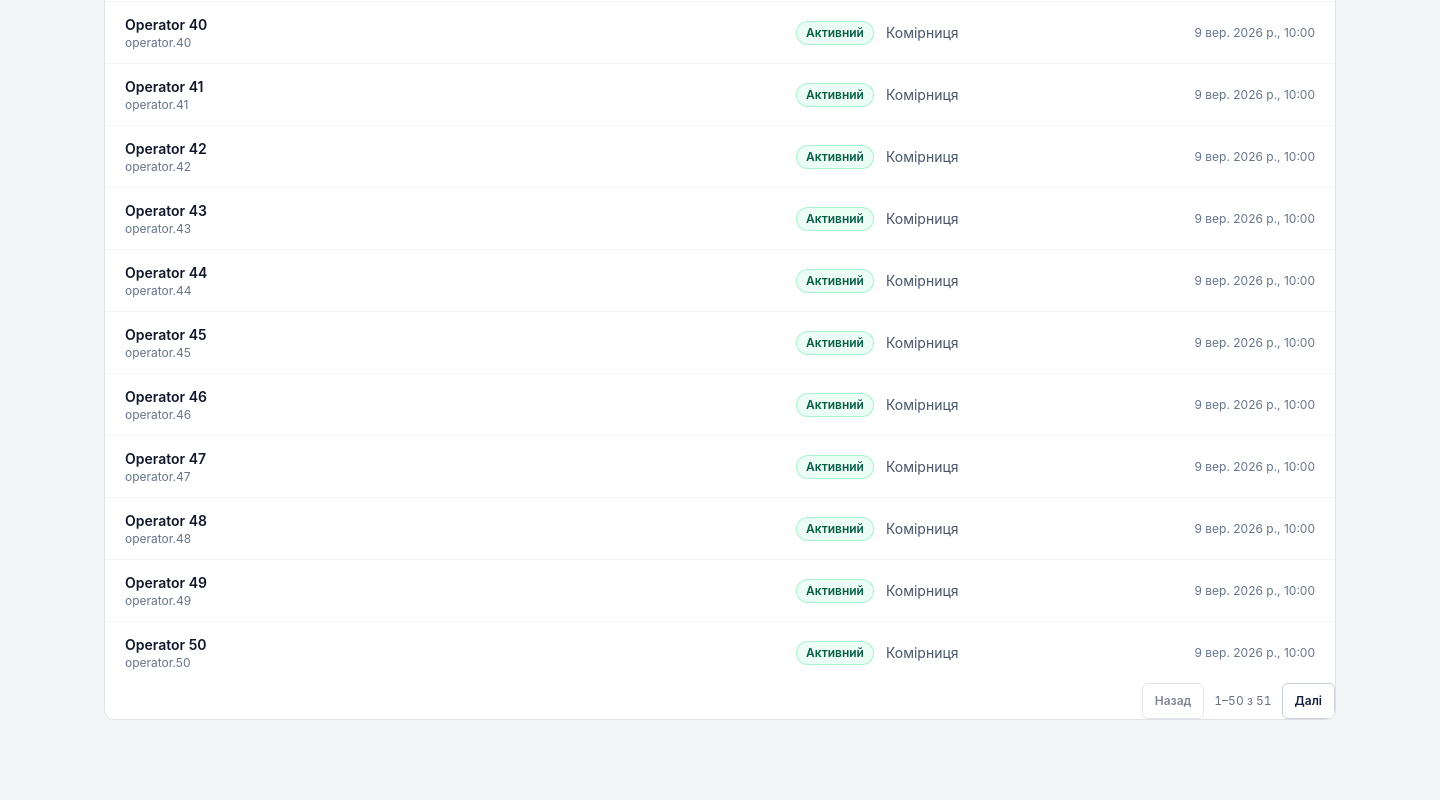
Test: application-user administration UI › bounds the user table to 50 rows while keeping truthful totals
(page scrolled)
Expected: the text "Operator 51" is not shown
Expected: the text "1–50 з 51" is shown, [1214,692,1272,710]
Click the button "Далі" at (1308, 701), box [1282,683,1335,719]
(page scrolled)
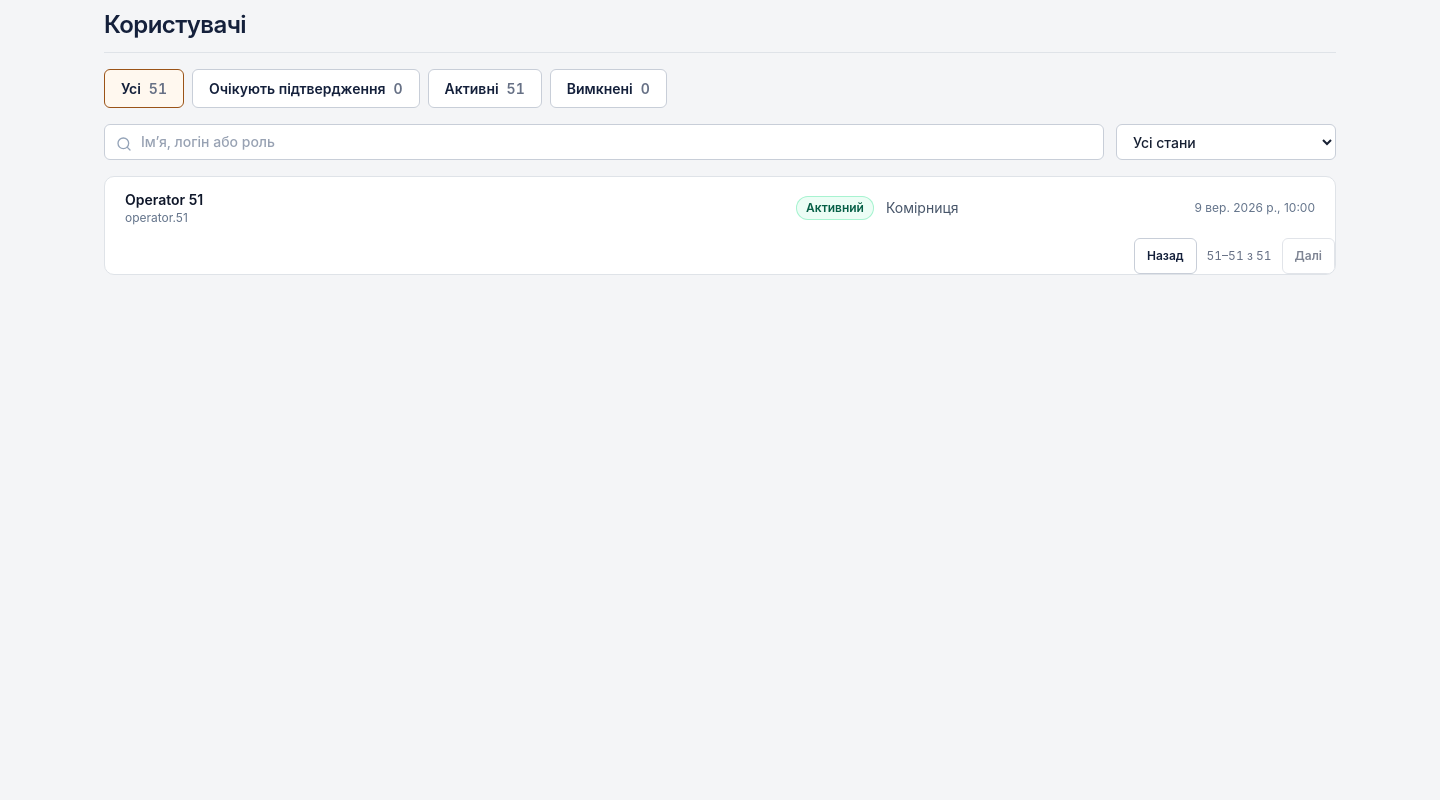
Result: the text "Operator 51" is shown at [125,191,203,208]
Result: the text "51–51 з 51" is shown at [1206,247,1272,265]
